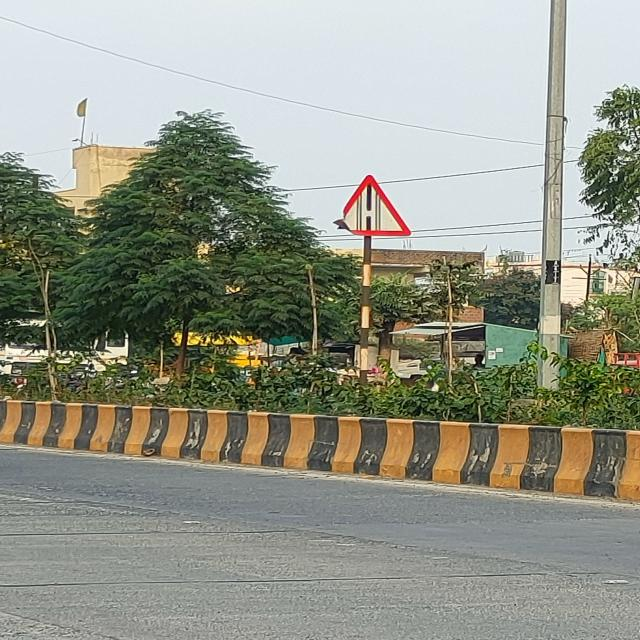ferry: (336, 174, 408, 235)
